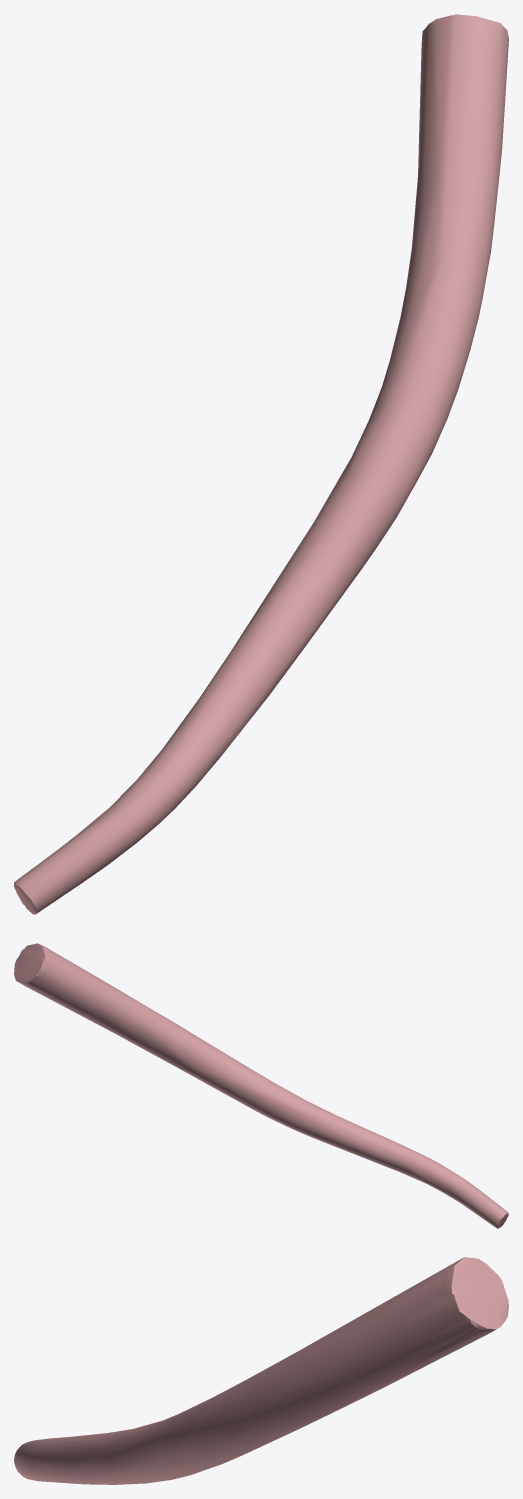
File: fma68215_fj6529.glb
3 renders of one model, top to bottom at view 1: azimuth 30°, elevation 25°; view 2: azimuth 150°, elevation 25°; view 3: azimuth 270°, elevation 25°, orthographic. The views are drawn at different scales.
Parts seen in each view (by area): view 1: FMA68215_FJ6529; view 2: FMA68215_FJ6529; view 3: FMA68215_FJ6529.
Boxes of the visible parts, <box> form: FMA68215_FJ6529: <box>14,14,508,914</box>; FMA68215_FJ6529: <box>14,943,508,1228</box>; FMA68215_FJ6529: <box>14,1257,508,1484</box>.
Size of the model in its own units: 0.0861 by 0.0639 by 0.0558.
